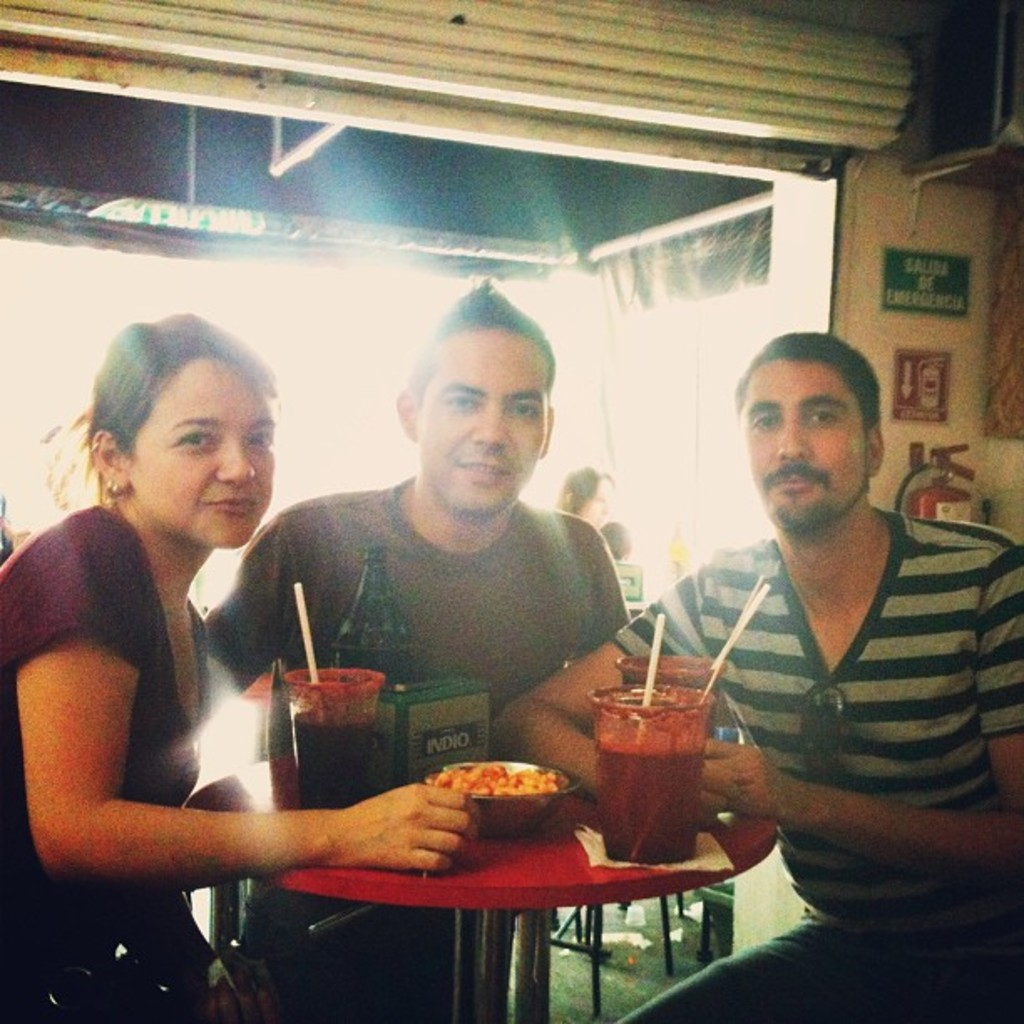Human_hand: (325, 791, 495, 902), (709, 730, 780, 825)
